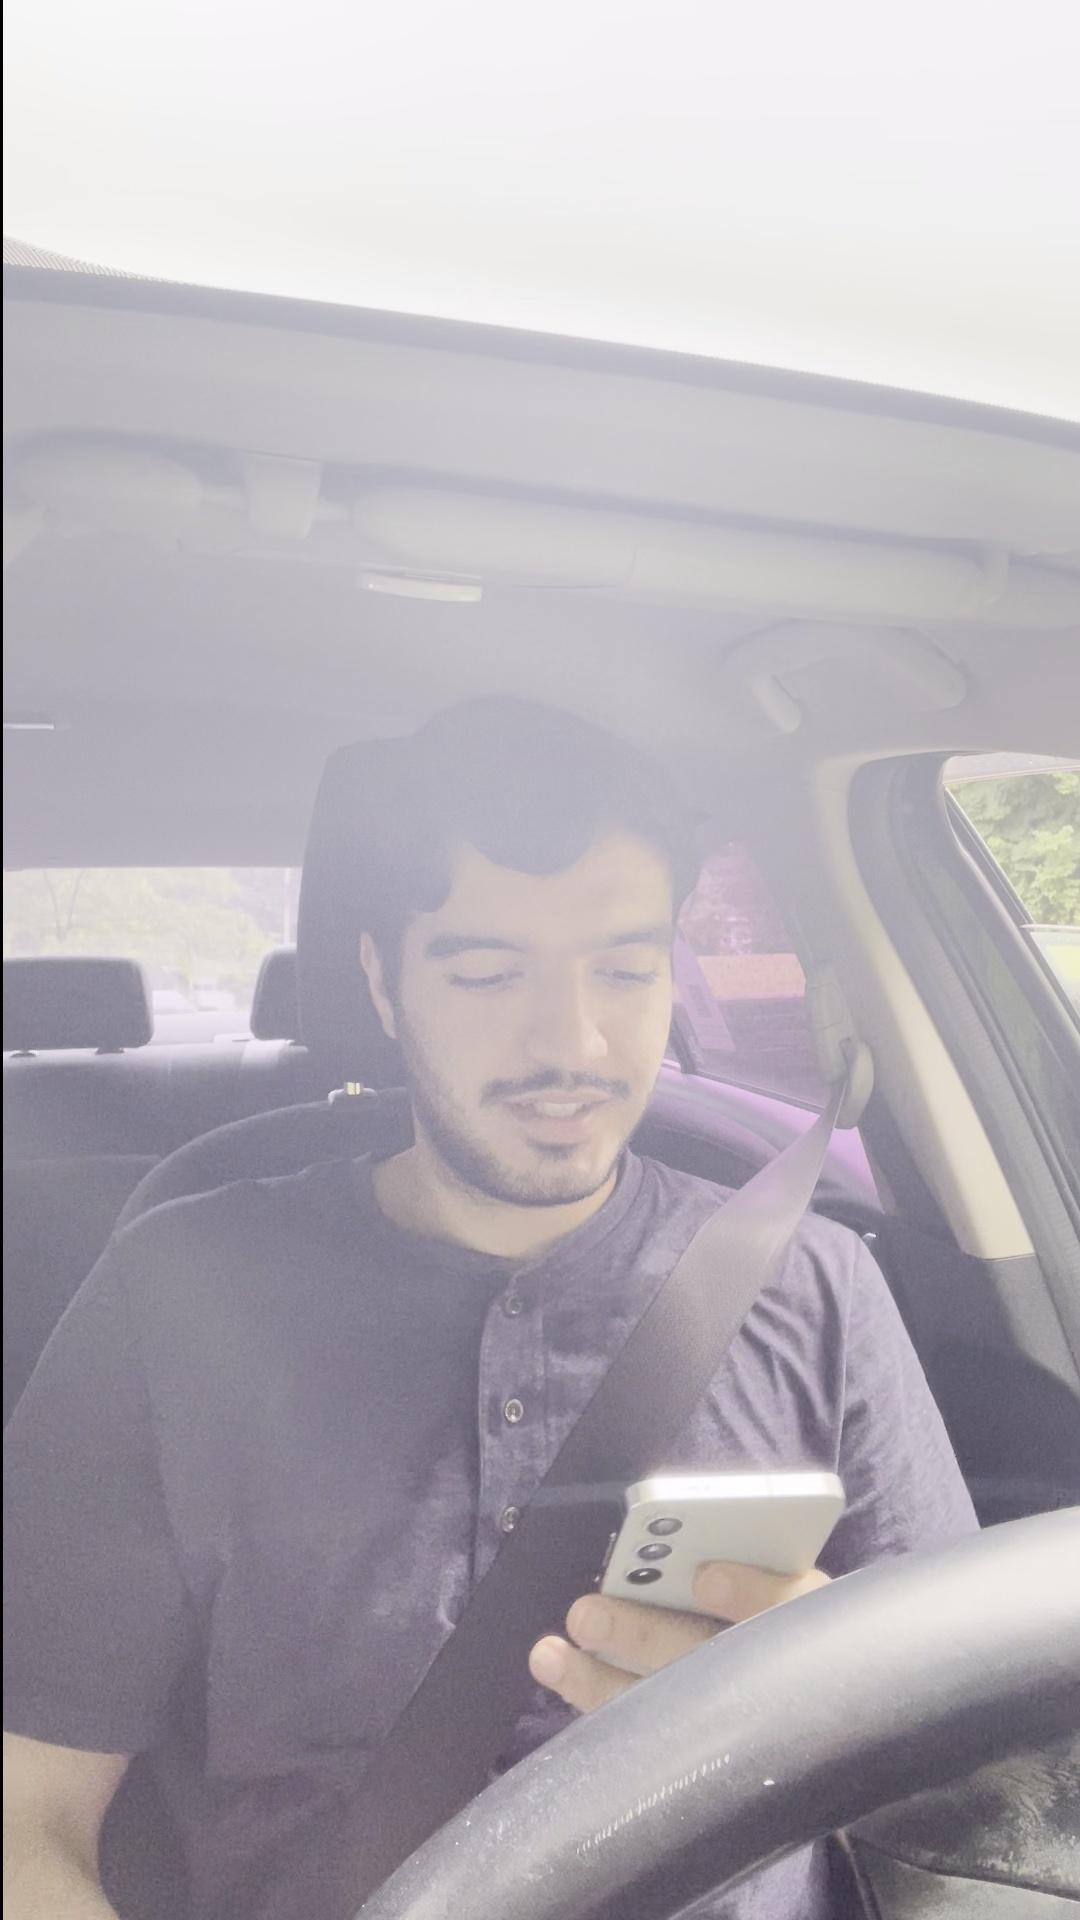mobile: (547, 1433, 857, 1697)
